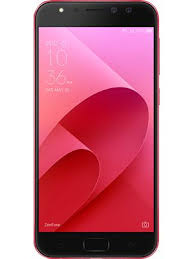asus: (26, 1, 164, 259)
